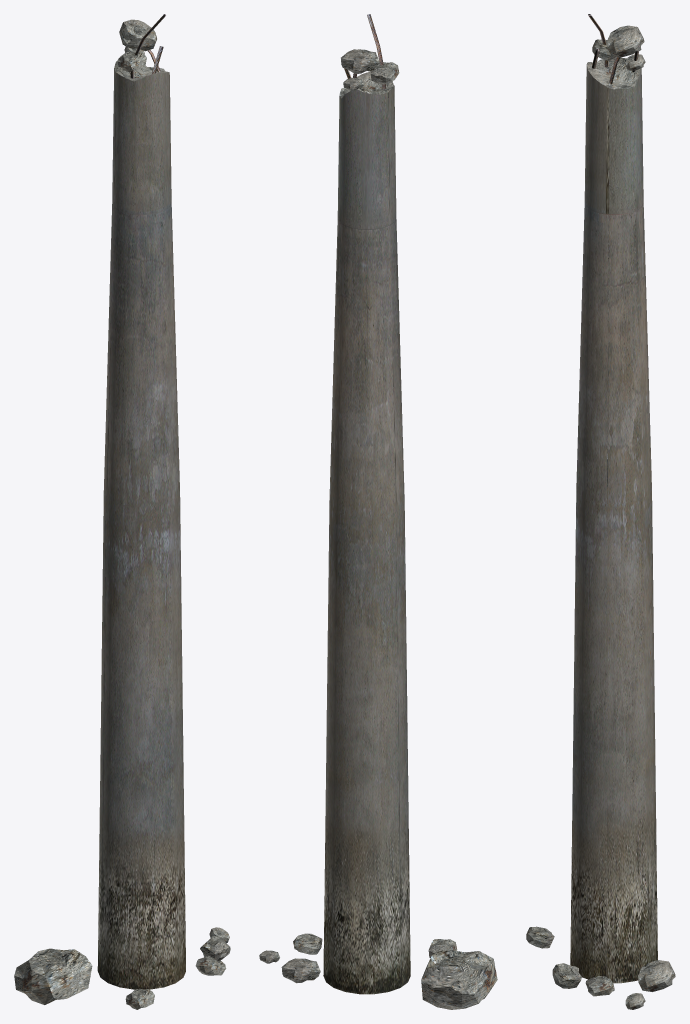
The model's file is RoadLamp3_2e.FBX.
3 renders of one model, left to right at view 1: azimuth 30°, elevation 25°; view 2: azimuth 150°, elevation 25°; view 3: azimuth 270°, elevation 25°, orthographic.
Parts seen in each view (by area): view 1: LampPillar1, Debris; view 2: LampPillar1, Debris; view 3: LampPillar1, Debris.
Boxes of the visible parts, x1,y1,x2,y2 form: LampPillar1: [97, 53, 185, 989]; Debris: [14, 14, 230, 1009]; LampPillar1: [323, 71, 410, 994]; Debris: [259, 14, 497, 1009]; LampPillar1: [570, 57, 657, 983]; Debris: [526, 14, 675, 1009].
Bounding box in the file's own units: 22.09 × 93.96 × 13.21.
